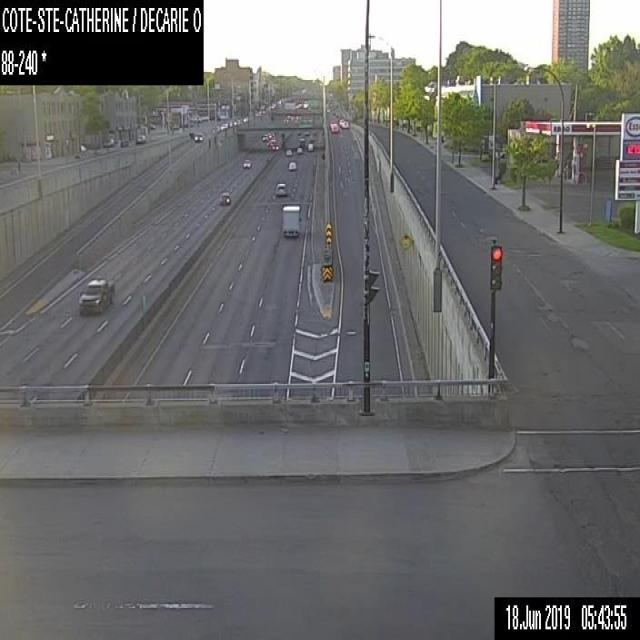vehicle: (78, 277, 115, 314), (281, 203, 301, 237), (218, 192, 230, 204), (275, 182, 285, 196), (102, 137, 114, 146), (242, 158, 252, 168), (194, 132, 203, 142), (135, 134, 145, 142), (288, 161, 296, 169), (261, 133, 268, 140), (341, 120, 348, 127), (285, 148, 291, 155), (331, 125, 337, 132), (296, 146, 302, 152), (307, 143, 312, 150), (299, 136, 304, 141), (270, 137, 276, 141), (304, 130, 309, 134), (267, 132, 270, 137)
